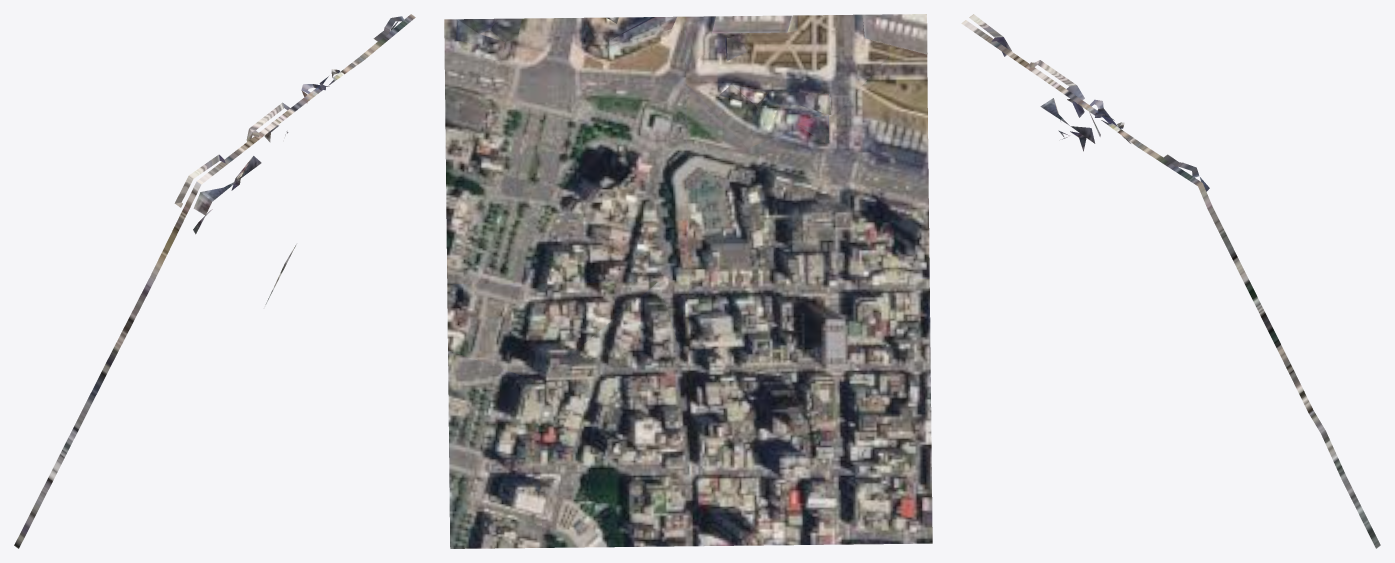
3 views of the same model, side by side, from view 1: azimuth 30°, elevation 25°; view 2: azimuth 150°, elevation 25°; view 3: azimuth 270°, elevation 25° (orthographic). The views are drawn at different scales.
Bounding box in the file's own units: 610 × 562 × 514.
1 material, 1 textured.
